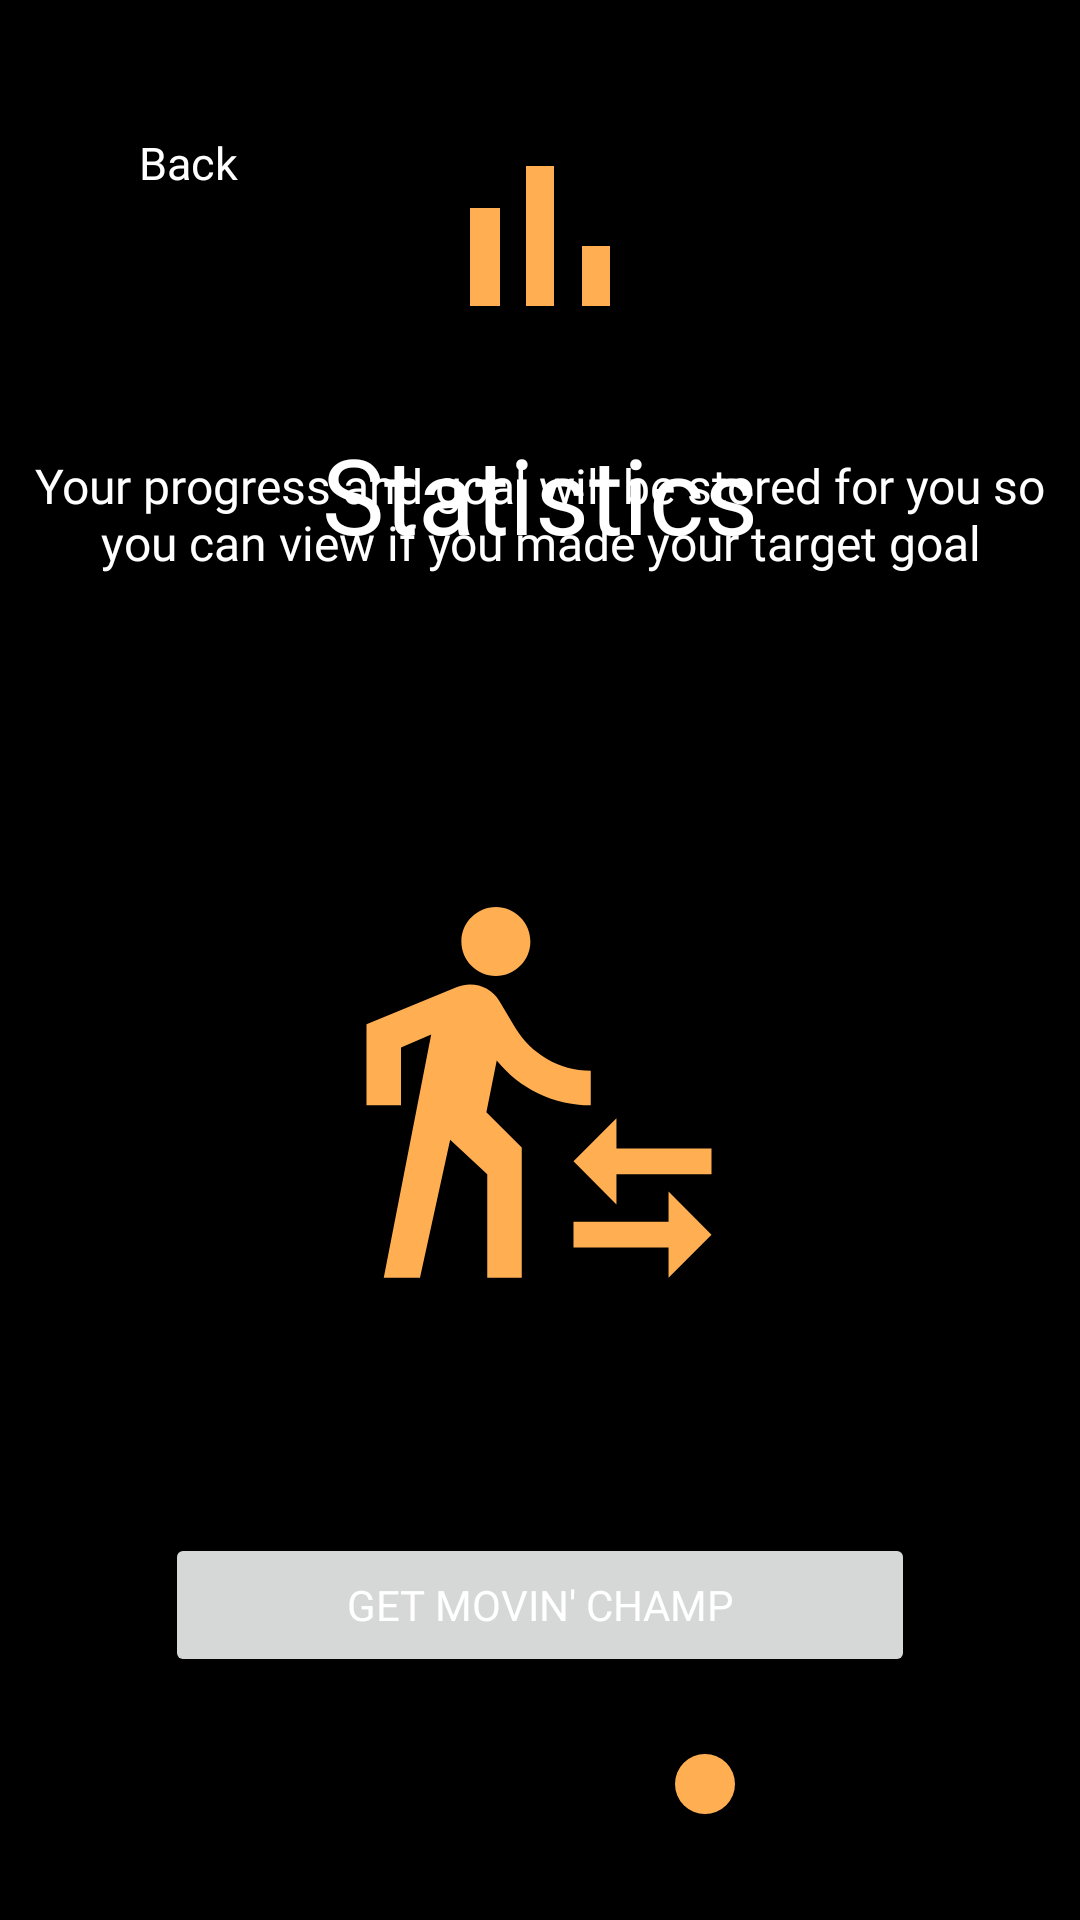

Screen size 1080 x 1920. Icon name, then its box in pixels as (x1, y1, x2, y2):
bar chart: (470, 166, 610, 306)
